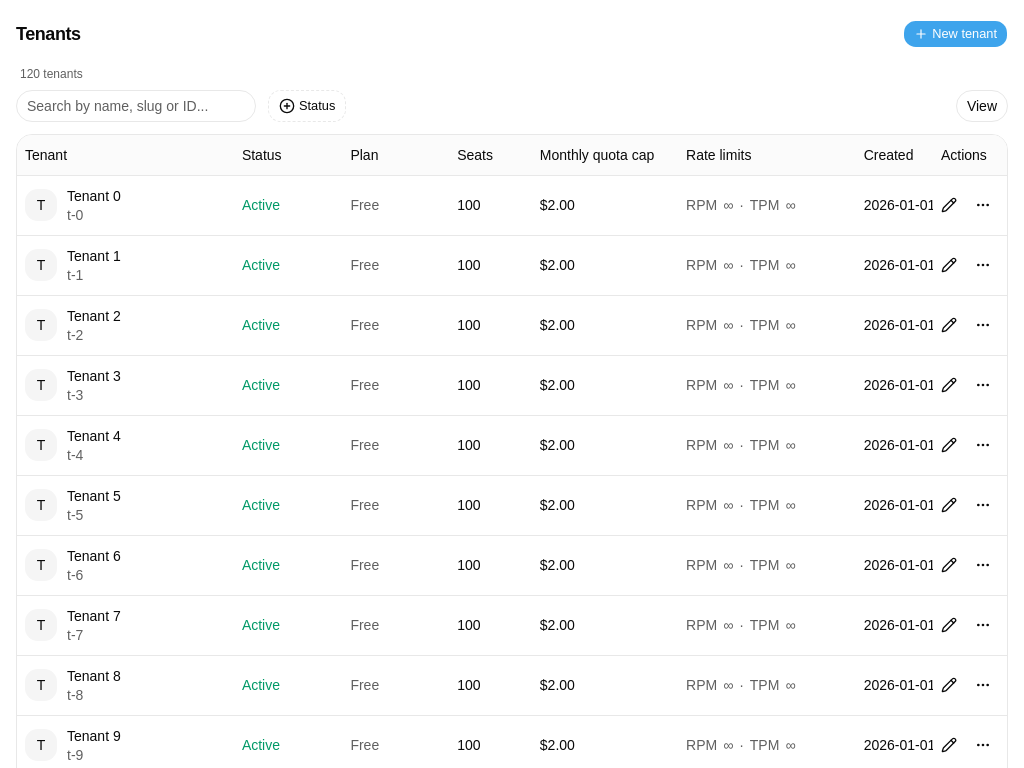
it: AdminTenantsPage list › reads every page, so the search covers the whole fleet
The image size is (1024, 768).
Check: the text "Tenant 0" is shown, box [67, 186, 121, 206]
Check: the text with test id "tenants-count" reads "120 tenants", box [20, 67, 83, 81]
Type "Tenant 115" into the field with placeholder "Search by name, slug or ID..." at [136, 106], box [16, 90, 256, 122]
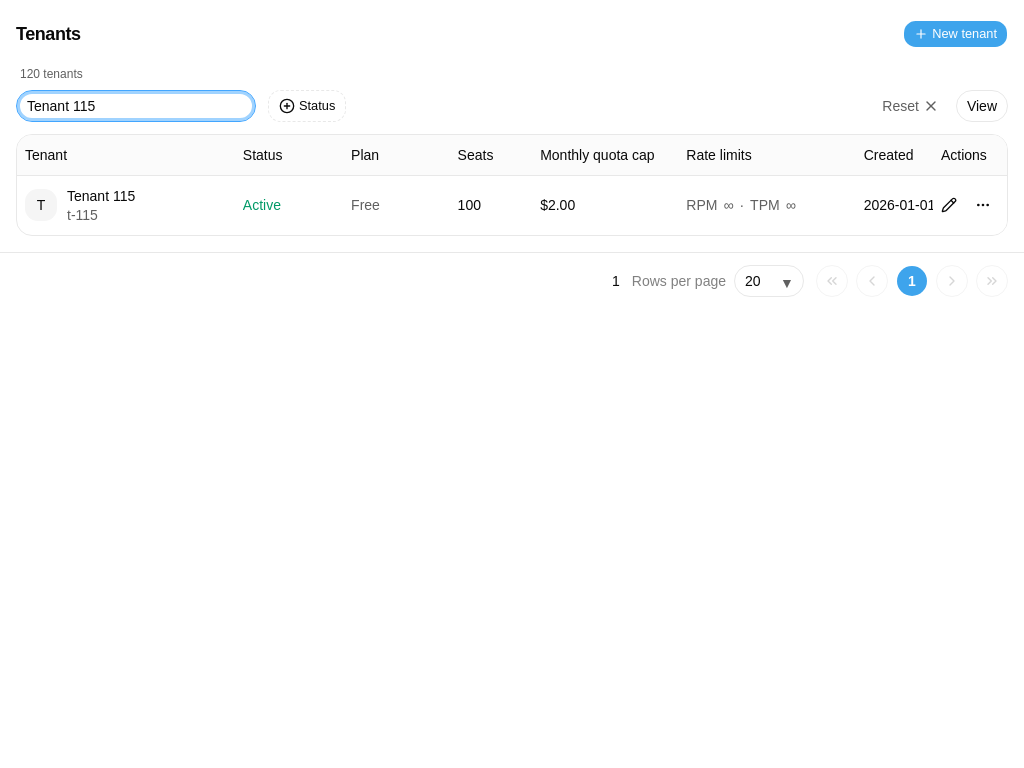
Check: the text "Tenant 115" is shown, box [67, 186, 135, 206]
Check: the text "Tenant 0" is gone
